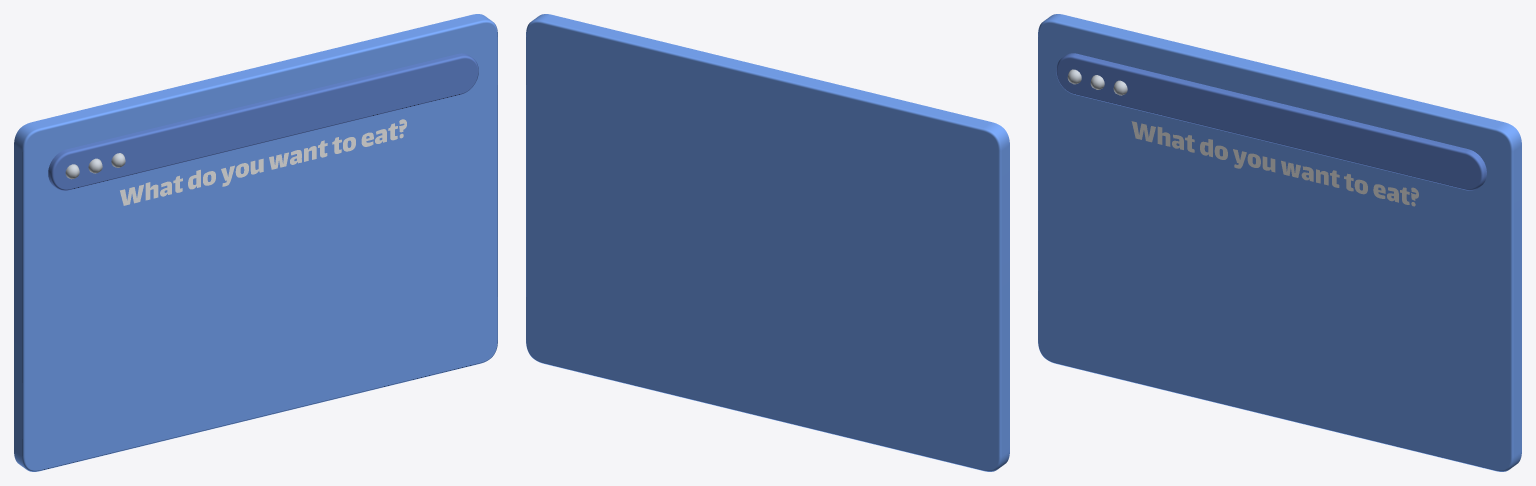
File: ui-panel.glb
3 renders of one model, left to right at view 1: azimuth 30°, elevation 25°; view 2: azimuth 150°, elevation 25°; view 3: azimuth 330°, elevation 25°, orthographic.
Parts seen in each view (by area): view 1: Rectangle 24.003, Rectangle 24.002, Text; view 2: Rectangle 24.003; view 3: Rectangle 24.003, Rectangle 24.002, Text.
Part boxes in pixels (x1,y1,x2,y2): Rectangle 24.003: (14, 14, 497, 471); Rectangle 24.002: (48, 53, 478, 190); Text: (120, 119, 406, 205); Rectangle 24.003: (526, 14, 1009, 471); Rectangle 24.003: (1038, 14, 1521, 471); Rectangle 24.002: (1056, 53, 1486, 190); Text: (1131, 121, 1418, 206).
Bounding box in the file's own units: 2.08 × 1.43 × 0.1494.
